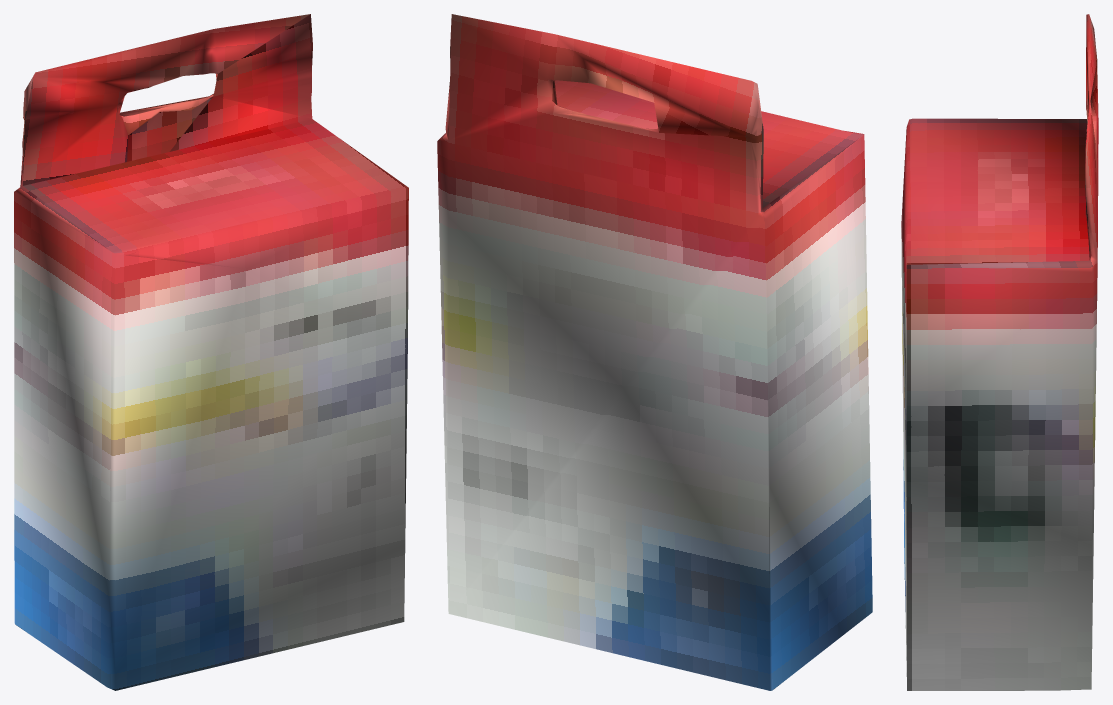
Rendered from Office_Depot_HP_75_Remanufactured_Ink_Cartridge_TriColor-low.glb.
3 views of the same model, side by side, from view 1: azimuth 30°, elevation 25°; view 2: azimuth 150°, elevation 25°; view 3: azimuth 270°, elevation 25° (orthographic). The views are drawn at different scales.
Visible parts, largest first — view 1: Office_Depot_HP_75_Remanufactured_Ink_Cartridge_TriColor; view 2: Office_Depot_HP_75_Remanufactured_Ink_Cartridge_TriColor; view 3: Office_Depot_HP_75_Remanufactured_Ink_Cartridge_TriColor.
Boxes of the visible parts, x1,y1,x2,y2 form: Office_Depot_HP_75_Remanufactured_Ink_Cartridge_TriColor: (14,14,408,690); Office_Depot_HP_75_Remanufactured_Ink_Cartridge_TriColor: (437,14,872,690); Office_Depot_HP_75_Remanufactured_Ink_Cartridge_TriColor: (901,14,1098,690).
Size of the model in its own units: 0.084 by 0.1457 by 0.0479.
Materials: 1 (1 with a texture image).
